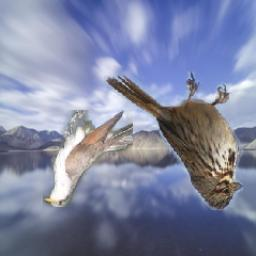Cuckoo: (43, 111, 133, 208)
Sparrow: (104, 71, 243, 210)
